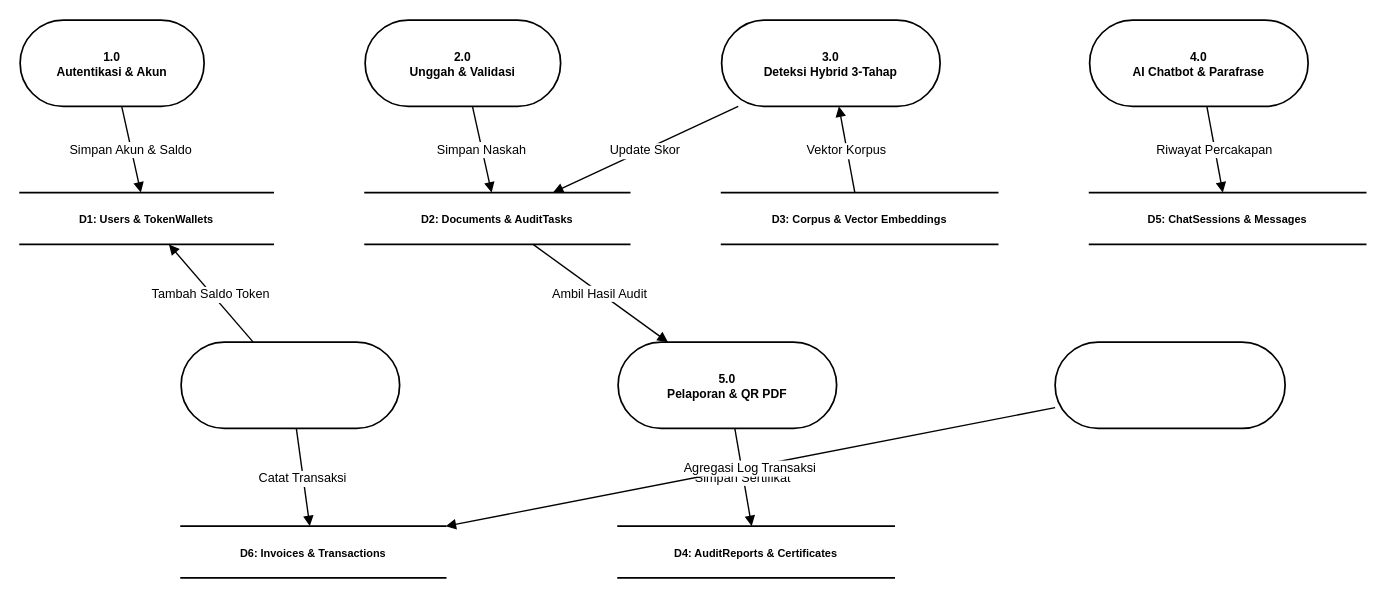
The diagram is 1387 pixels wide and 599 high, and some of its shapes have lost their labels. Each missing label, with the centre of its shape:
"6.0 Token & Midtrans Billing" goes at (x=290, y=385).
"7.0 Monitoring Layanan (Admin)" goes at (x=1169, y=385).
